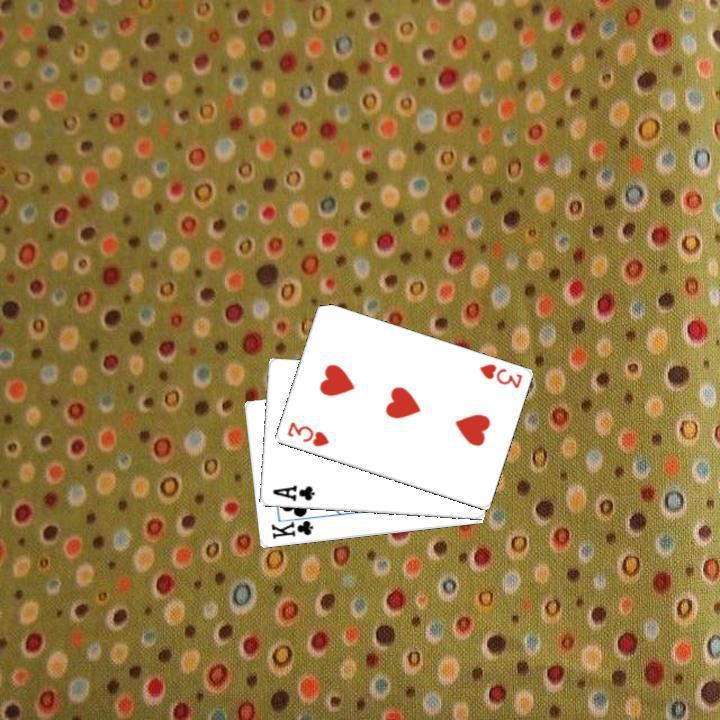3: (475, 359, 524, 391), (282, 418, 331, 449)
A: (268, 481, 316, 504)
K: (267, 512, 318, 541)
